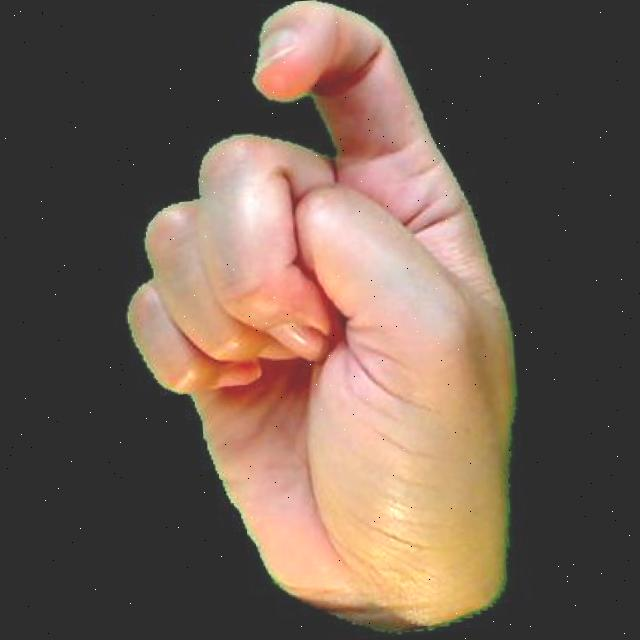x: (92, 0, 532, 640)
